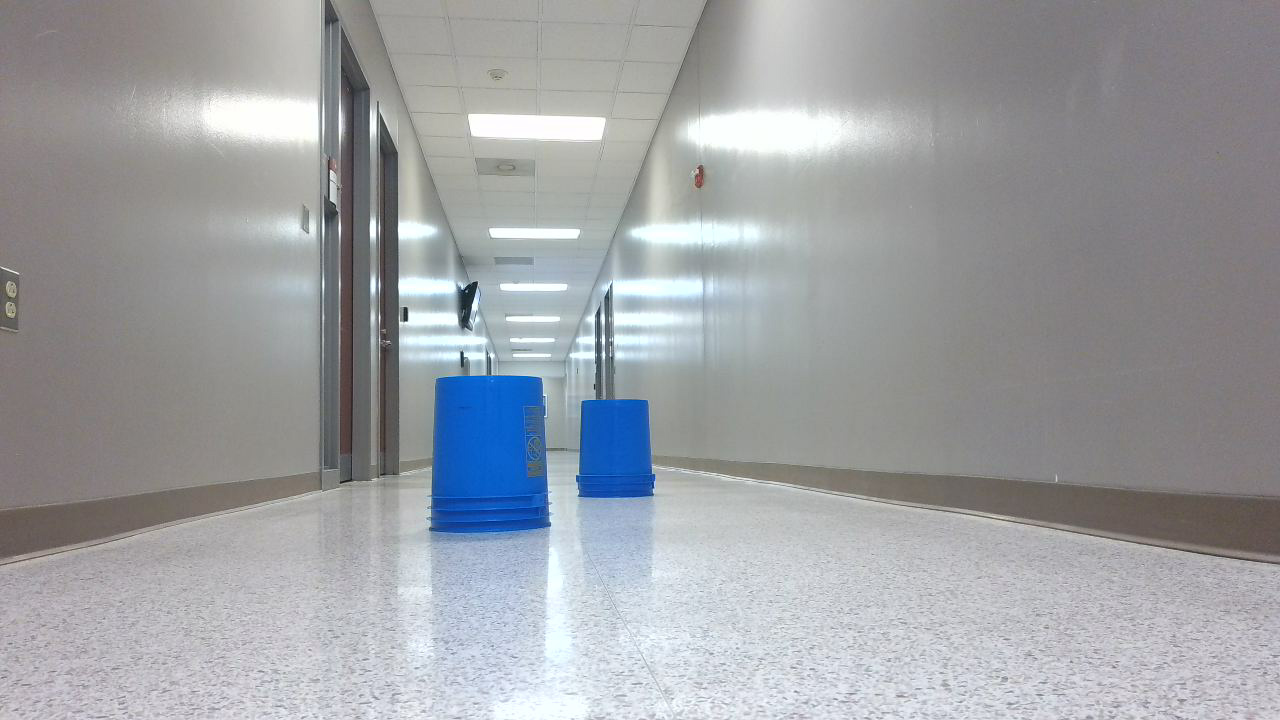blue_bucket: (431, 379, 557, 542), (580, 402, 662, 507)
